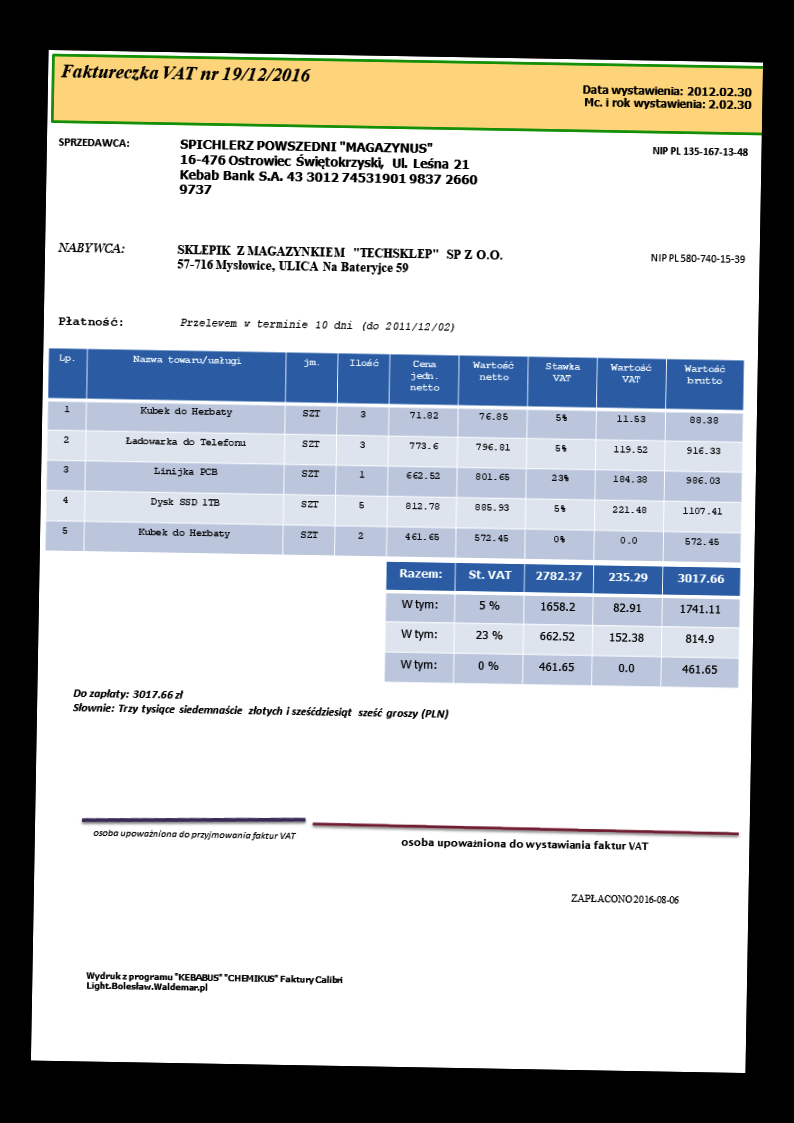Table: (43, 345, 746, 565), (383, 561, 742, 689)
TextBox: (177, 135, 481, 202), (70, 685, 451, 723), (175, 241, 503, 278), (84, 968, 346, 996), (59, 60, 313, 87), (178, 313, 456, 336), (580, 81, 754, 112), (398, 834, 649, 854), (91, 826, 298, 845), (567, 890, 681, 907), (651, 142, 752, 159), (649, 250, 747, 267), (55, 237, 127, 257), (57, 134, 130, 150), (56, 313, 127, 329)
